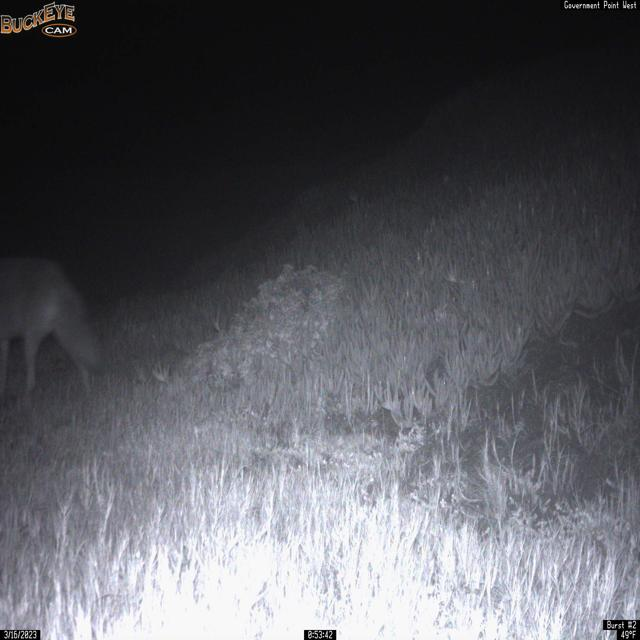coyote: (0, 254, 106, 408)
